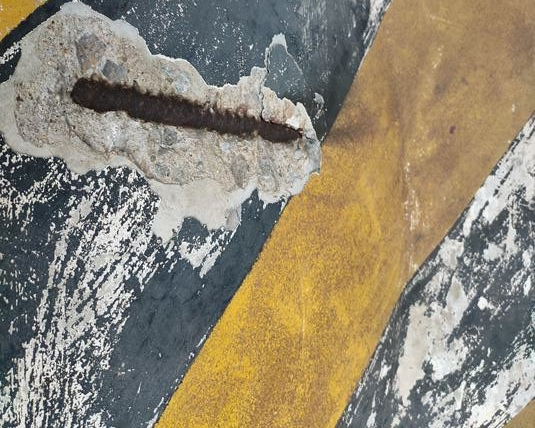Exposed reinforcement: (71, 77, 302, 145)
Spalling: (1, 1, 323, 246)
